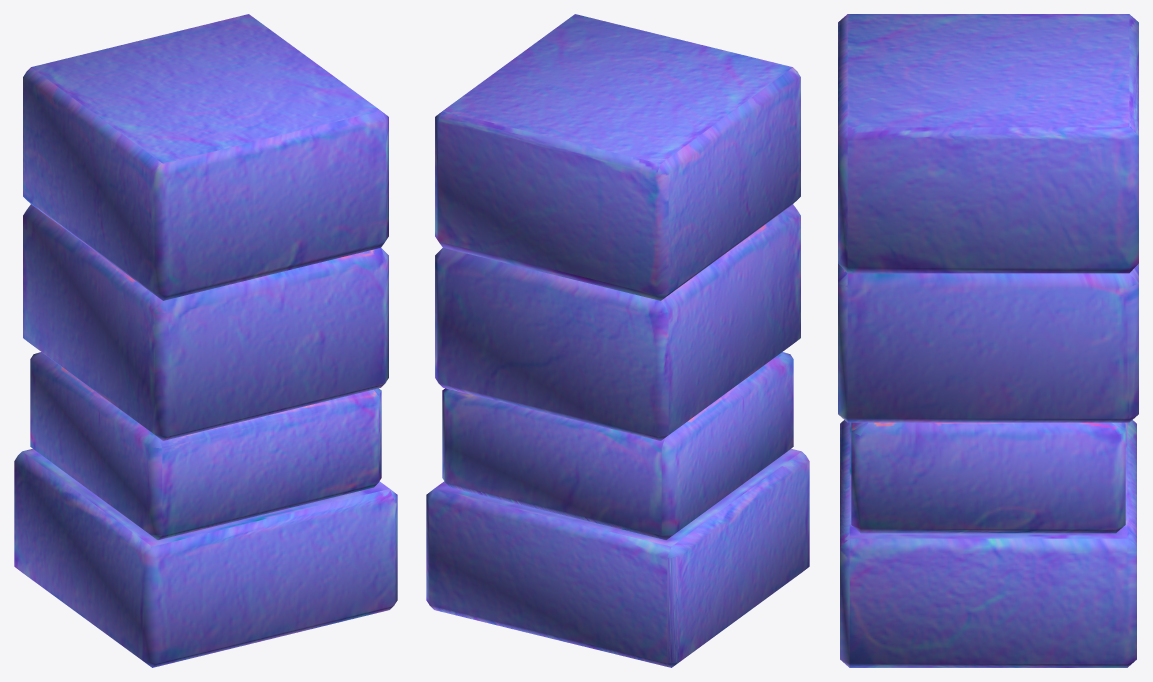
Rendered from pillar_middle_02a_LOD1.fbx.
The picture shows the model from 3 angles, left to right: view 1: azimuth 30°, elevation 25°; view 2: azimuth 150°, elevation 25°; view 3: azimuth 270°, elevation 25°; orthographic projection. The views are drawn at different scales.
Visible parts, largest first — view 1: pillar_middle_02a_LOD1; view 2: pillar_middle_02a_LOD1; view 3: pillar_middle_02a_LOD1.
Boxes of the visible parts, <box> form: pillar_middle_02a_LOD1: <box>14,14,397,667</box>; pillar_middle_02a_LOD1: <box>426,14,809,667</box>; pillar_middle_02a_LOD1: <box>838,14,1138,667</box>.
Size of the model in its own units: 33.51 by 32.36 by 63.55.
1 material, 1 textured.
